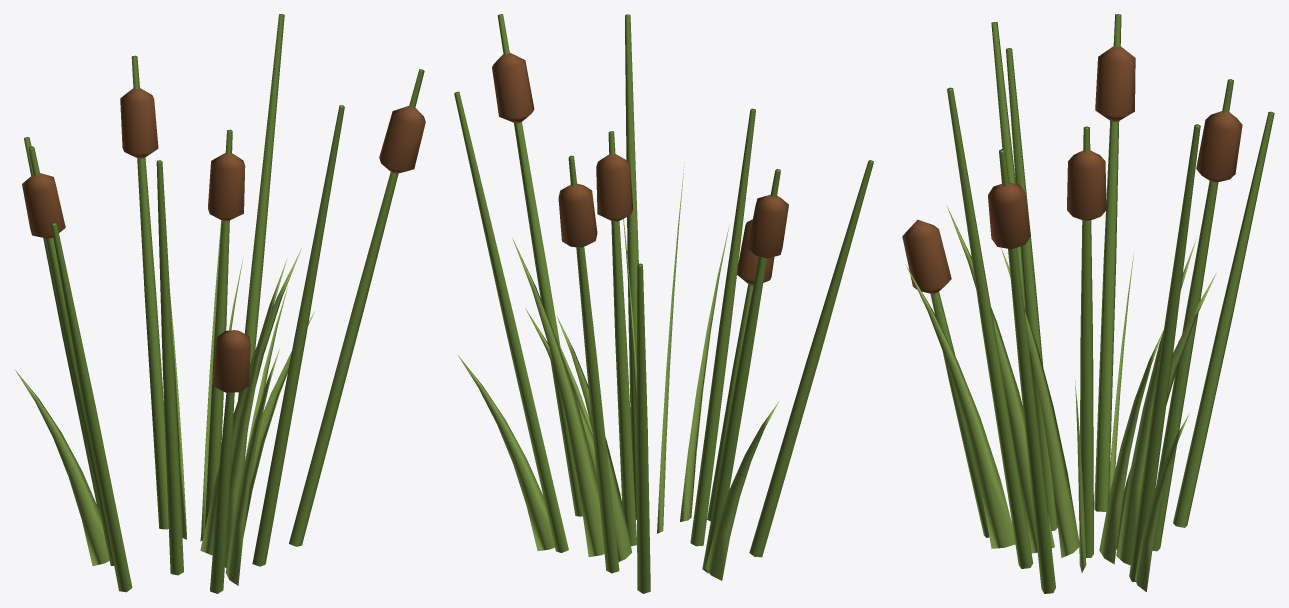
File: Swamp_Reeds.glb
The picture shows the model from 3 angles, left to right: view 1: azimuth 30°, elevation 25°; view 2: azimuth 150°, elevation 25°; view 3: azimuth 270°, elevation 25°; orthographic projection. The views are drawn at different scales.
Parts seen in each view (by area): view 1: Stalks, Blades, Cattails; view 2: Stalks, Blades, Cattails; view 3: Stalks, Blades, Cattails.
Boxes of the visible parts, left/top/right/bottom form: Stalks: left=24, top=14, right=424, bottom=593; Blades: left=15, top=220, right=314, bottom=585; Cattails: left=22, top=88, right=425, bottom=392; Stalks: left=454, top=14, right=873, bottom=593; Blades: left=458, top=163, right=779, bottom=580; Cattails: left=492, top=53, right=788, bottom=285; Stalks: left=930, top=14, right=1274, bottom=593; Blades: left=905, top=206, right=1216, bottom=591; Cattails: left=902, top=46, right=1242, bottom=293.
Size of the model in its own units: 4.2 by 5.04 by 3.37.
